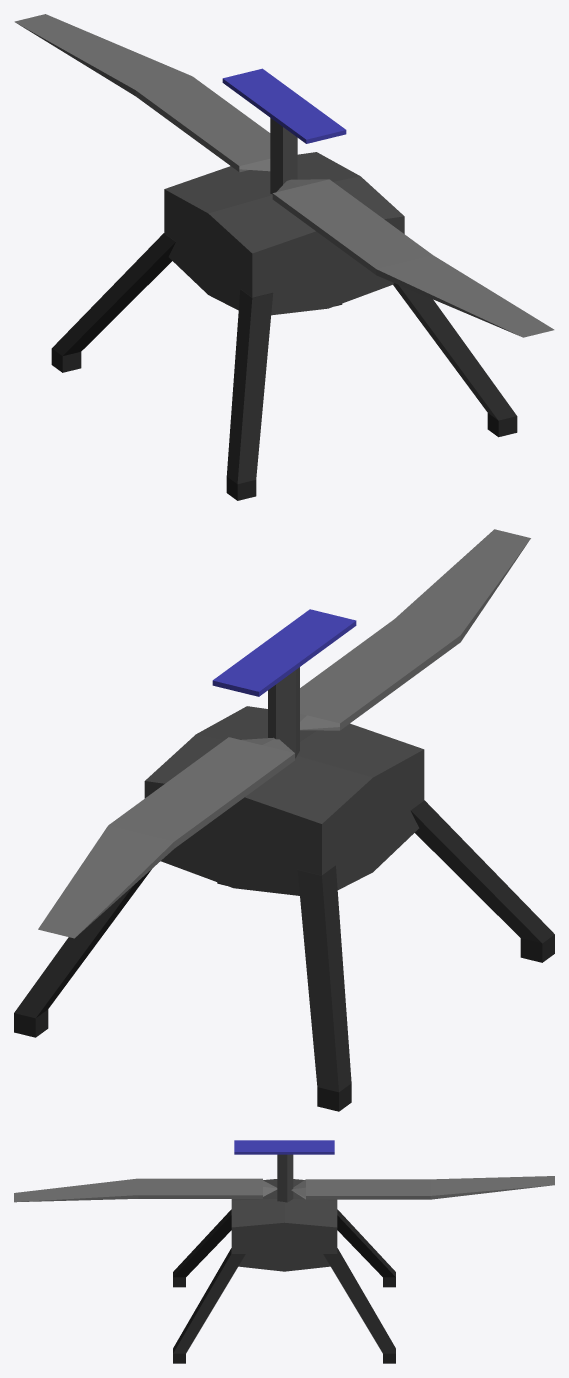
File: ingenuity.glb
3 renders of one model, top to bottom at view 1: azimuth 30°, elevation 25°; view 2: azimuth 150°, elevation 25°; view 3: azimuth 270°, elevation 25°, orthographic. The views are drawn at different scales.
Parts seen in each view (by area): view 1: base, legs, wing1, wing1.001, solar_panel, rode; view 2: base, legs, wing1.001, wing1, solar_panel, rode; view 3: base, legs, wing1.001, wing1, solar_panel, rode.
Boxes of the visible parts, left/top/right/bottom form: base: left=164, top=152, right=404, bottom=315; legs: left=51, top=233, right=517, bottom=500; wing1: left=272, top=179, right=554, bottom=337; wing1.001: left=14, top=14, right=270, bottom=172; solar_panel: left=222, top=68, right=346, bottom=143; rode: left=270, top=118, right=297, bottom=194; base: left=144, top=706, right=424, bottom=895; legs: left=14, top=800, right=554, bottom=1111; wing1.001: left=38, top=737, right=294, bottom=938; wing1: left=300, top=529, right=530, bottom=730; solar_panel: left=212, top=609, right=356, bottom=696; rode: left=268, top=667, right=299, bottom=758; base: left=231, top=1179, right=337, bottom=1271; legs: left=173, top=1209, right=395, bottom=1363; wing1.001: left=291, top=1176, right=554, bottom=1199; wing1: left=14, top=1178, right=277, bottom=1202; solar_panel: left=234, top=1140, right=334, bottom=1154; rode: left=277, top=1154, right=293, bottom=1202.
Bounding box in the file's own units: 1.11 × 1.12 × 3.09.
